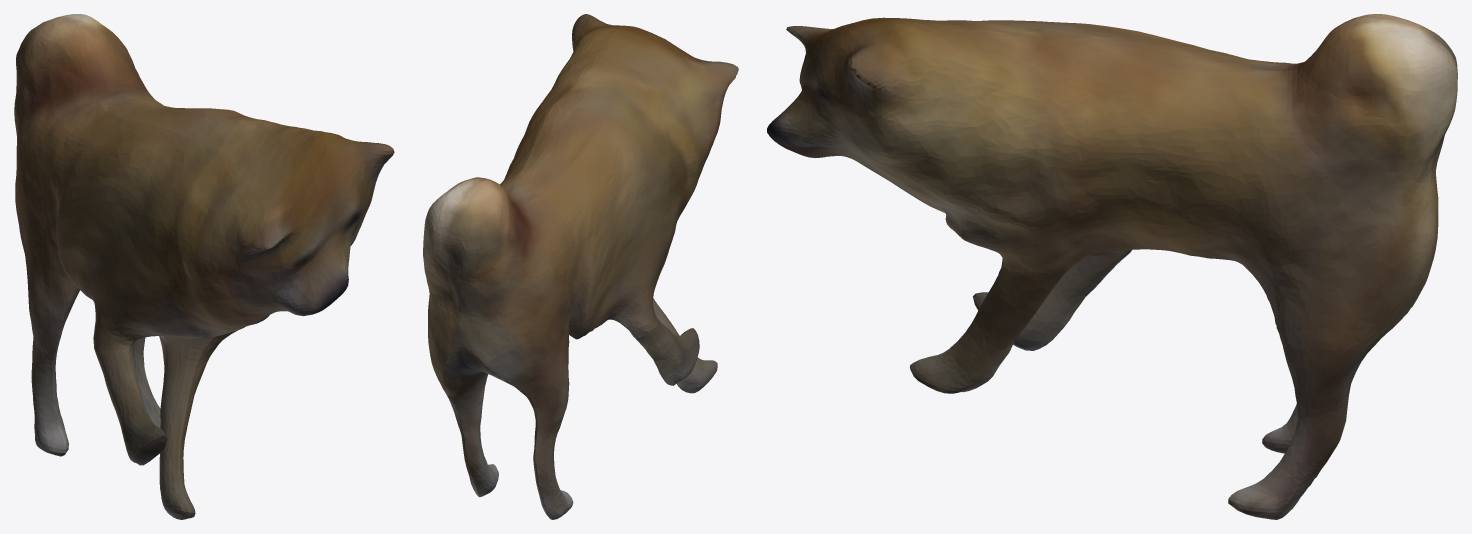
The model's file is shiba-haru-1002-mesh-00005.obj.
The picture shows the model from 3 angles, left to right: view 1: azimuth 30°, elevation 25°; view 2: azimuth 150°, elevation 25°; view 3: azimuth 270°, elevation 25°; orthographic projection. The views are drawn at different scales.
Size of the model in its own units: 0.0379 by 0.0763 by 0.0952.
